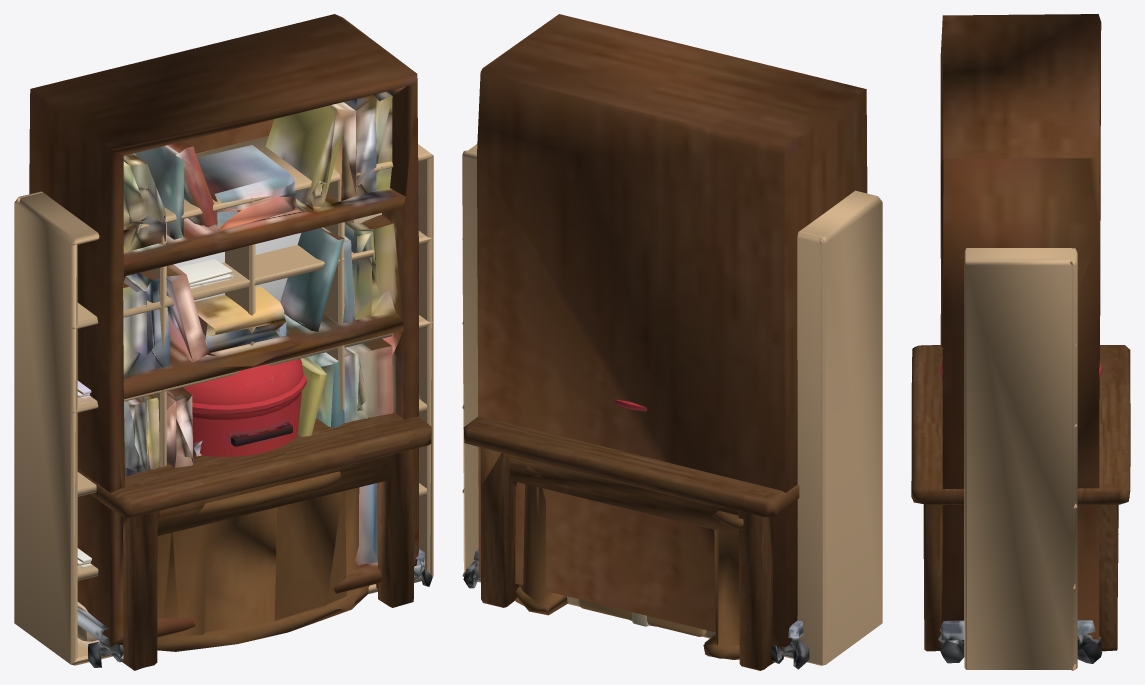
Rendered from office-props-floor-2.8840b7ca.glb.
The picture shows the model from 3 angles, left to right: view 1: azimuth 30°, elevation 25°; view 2: azimuth 150°, elevation 25°; view 3: azimuth 270°, elevation 25°; orthographic projection. The views are drawn at different scales.
Visible parts, largest first — view 1: tall-bookcase, mail-cubbies, reading-table, post-counter, mailbox, kanban-board; view 2: tall-bookcase, mail-cubbies, reading-table, post-counter, kanban-board, parcel-boxes; view 3: tall-bookcase, mail-cubbies, reading-table, kanban-board.
Boxes of the visible parts, box(x1,y1,x2,y2) form: tall-bookcase: box(29, 14, 418, 647); mail-cubbies: box(14, 136, 433, 665); reading-table: box(77, 412, 431, 670); post-counter: box(157, 471, 369, 651); mailbox: box(183, 359, 306, 456); kanban-board: box(77, 233, 432, 667); tall-bookcase: box(477, 14, 867, 647); mail-cubbies: box(462, 144, 882, 665); reading-table: box(463, 416, 799, 670); post-counter: box(515, 465, 743, 659); kanban-board: box(463, 549, 809, 669); parcel-boxes: box(578, 599, 706, 636); tall-bookcase: box(940, 14, 1101, 647); mail-cubbies: box(964, 248, 1077, 670); reading-table: box(911, 345, 1130, 651); kanban-board: box(938, 620, 1102, 663).
Bounding box in the file's own units: 1.6 × 2.2 × 0.8694.
Materials: 10 (8 with a texture image).
